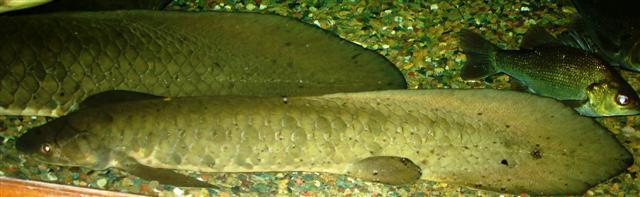Sirip Ekor: (443, 77, 637, 197), (252, 9, 416, 125)
